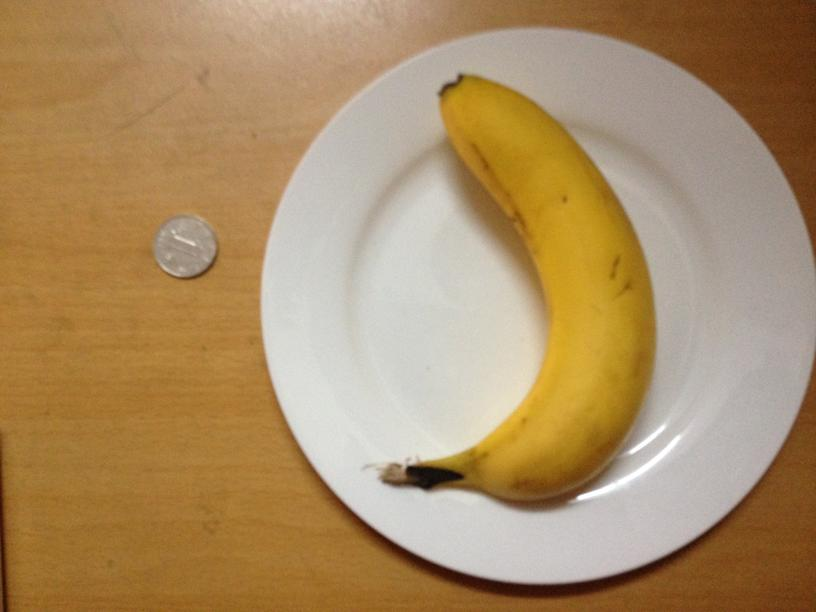banana: (411, 70, 657, 503)
coin: (153, 215, 216, 279)
